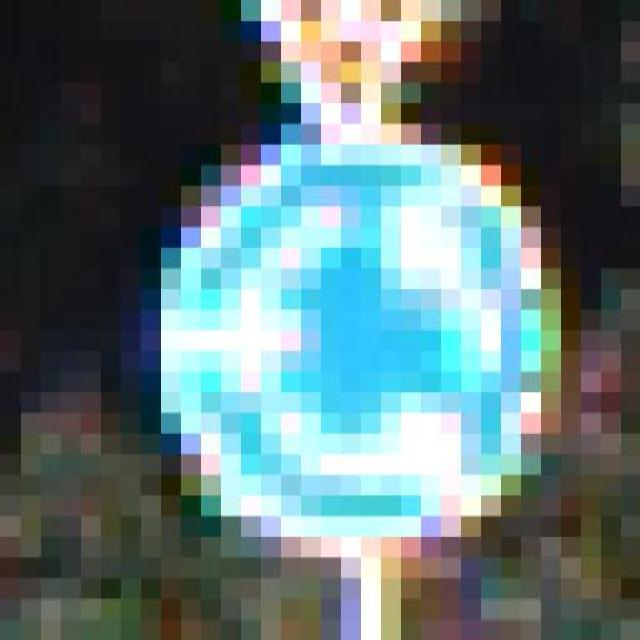Round-About: (100, 61, 580, 598)
